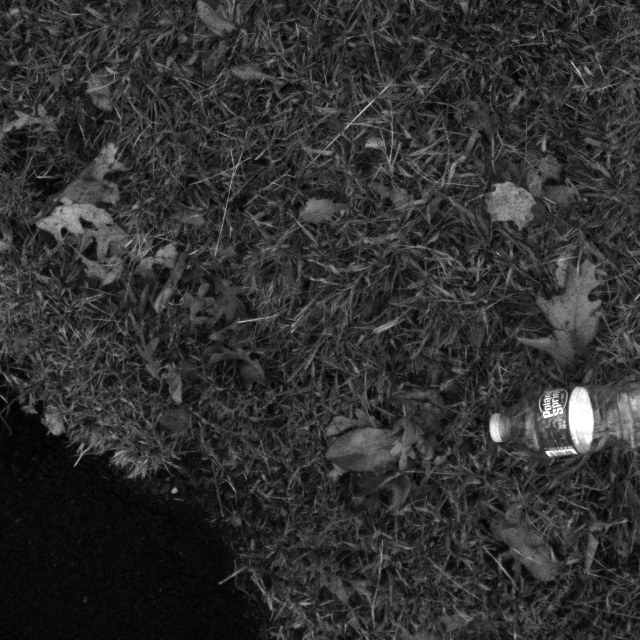bottle: (482, 366, 640, 470)
